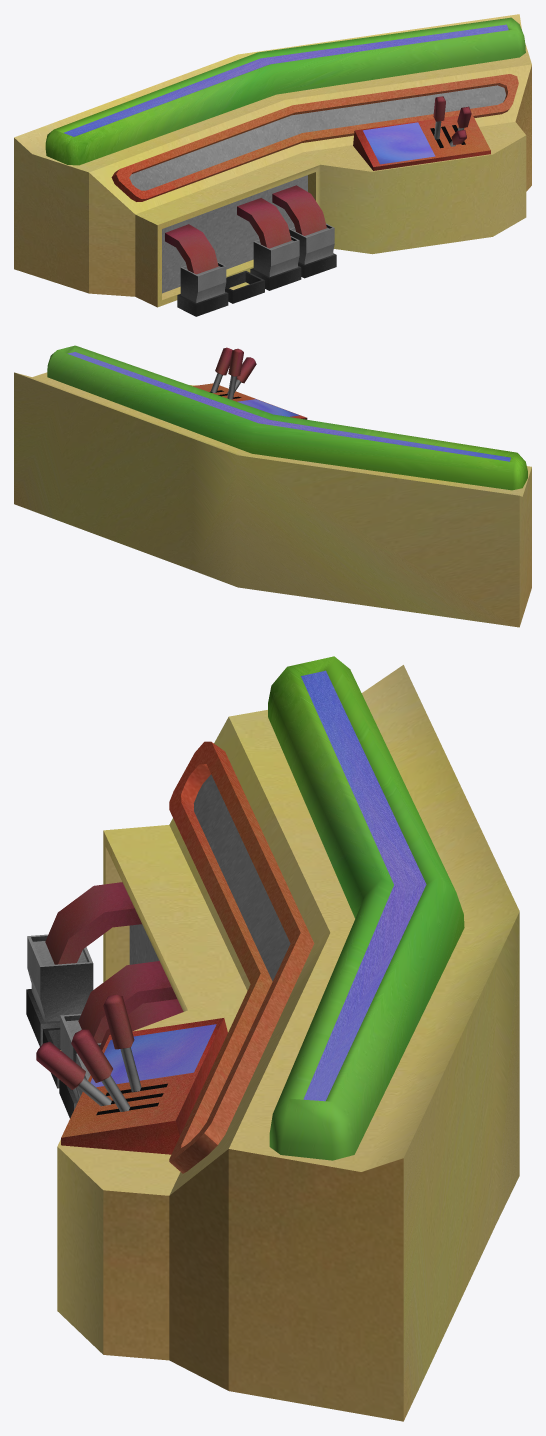
Rendered from meme-factory-terminal-art.glb.
The picture shows the model from 3 angles, top to bottom: view 1: azimuth 30°, elevation 25°; view 2: azimuth 150°, elevation 25°; view 3: azimuth 270°, elevation 25°; orthographic projection. The views are drawn at different scales.
Parts seen in each view (by area): view 1: MemeFactory_Terminal_Art; view 2: MemeFactory_Terminal_Art; view 3: MemeFactory_Terminal_Art.
Part boxes in pixels (left/top/right/bottom): MemeFactory_Terminal_Art: left=14, top=14, right=531, bottom=316; MemeFactory_Terminal_Art: left=14, top=345, right=531, bottom=627; MemeFactory_Terminal_Art: left=26, top=656, right=519, bottom=1421.
Size of the model in its own units: 5.45 by 1.54 by 2.3.
7 materials, 7 textured.
